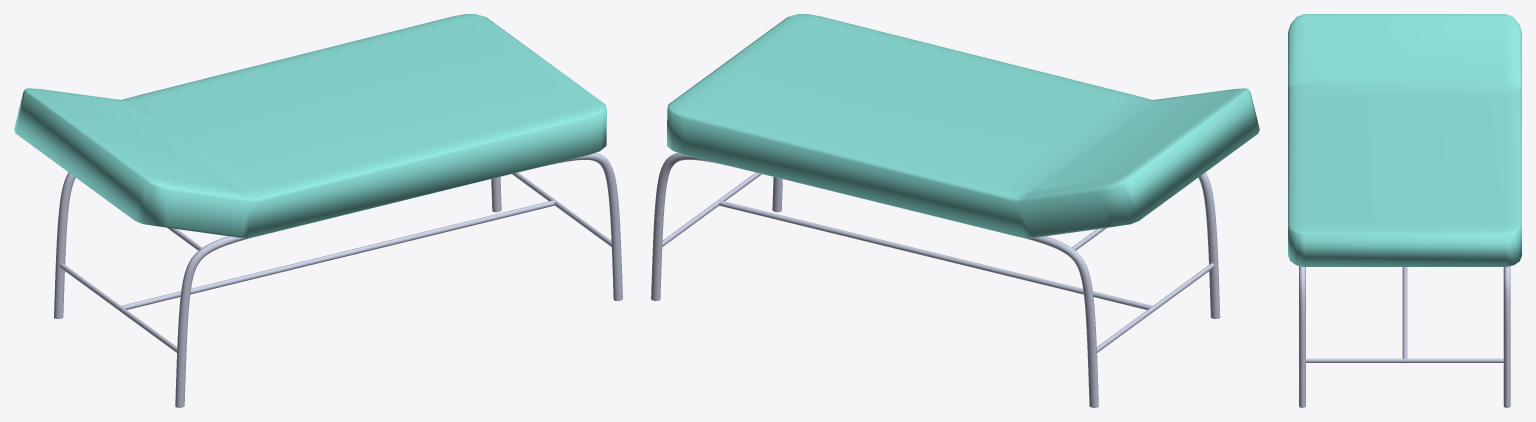
Rendered from Maca.fbx.
3 views of the same model, side by side, from view 1: azimuth 30°, elevation 25°; view 2: azimuth 150°, elevation 25°; view 3: azimuth 270°, elevation 25° (orthographic). The views are drawn at different scales.
Visible parts, largest first — view 1: Cube, NurbsPath, NurbsPath.006, NurbsPath.001, NurbsPath.002, NurbsPath.004; view 2: Cube, NurbsPath.001, NurbsPath.006, NurbsPath, NurbsPath.002, NurbsPath.004; view 3: Cube, NurbsPath.001, NurbsPath.004, NurbsPath, NurbsPath.006.
Part boxes in pixels (box(x1,y1,x2,y2)): Cube: box(14, 14, 606, 238); NurbsPath: box(175, 153, 622, 407); NurbsPath.006: box(121, 200, 555, 309); NurbsPath.001: box(54, 172, 501, 319); NurbsPath.002: box(59, 263, 177, 352); NurbsPath.004: box(512, 172, 611, 246); Cube: box(667, 14, 1259, 238); NurbsPath.001: box(651, 153, 1098, 407); NurbsPath.006: box(717, 200, 1152, 309); NurbsPath: box(772, 172, 1220, 318); NurbsPath.002: box(1096, 263, 1214, 352); NurbsPath.004: box(662, 172, 761, 246); Cube: box(1288, 14, 1521, 266); NurbsPath.001: box(1503, 266, 1510, 407); NurbsPath.004: box(1305, 358, 1503, 362); NurbsPath: box(1299, 266, 1305, 407); NurbsPath.006: box(1402, 267, 1407, 363).
Bounding box in the file's own units: 419 × 194 × 207.
